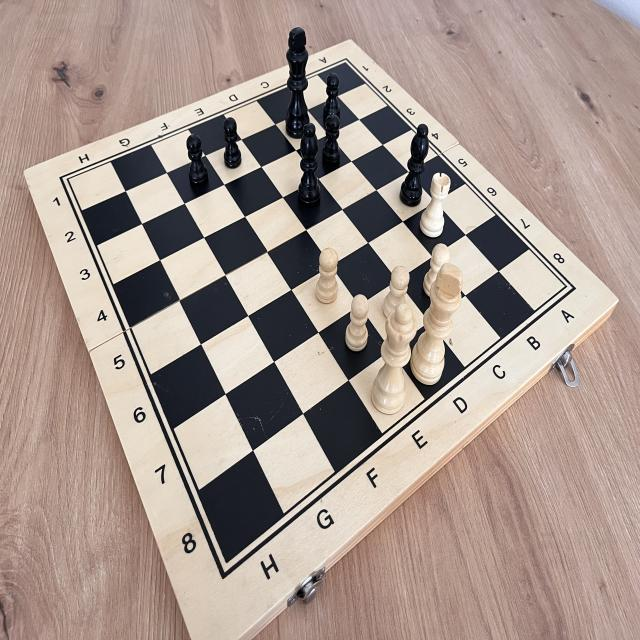black-bishop: (288, 114, 329, 223), (396, 116, 430, 213)
black-king: (278, 18, 320, 150)
black-pawn: (182, 127, 214, 199), (317, 67, 346, 137), (316, 111, 344, 175), (218, 110, 246, 170)
white-king: (410, 256, 468, 393)
white-pawn: (377, 257, 416, 335), (421, 238, 456, 310), (339, 287, 374, 357), (312, 239, 342, 308)
white-queen: (366, 291, 418, 429)
white-rook: (416, 165, 456, 242)
